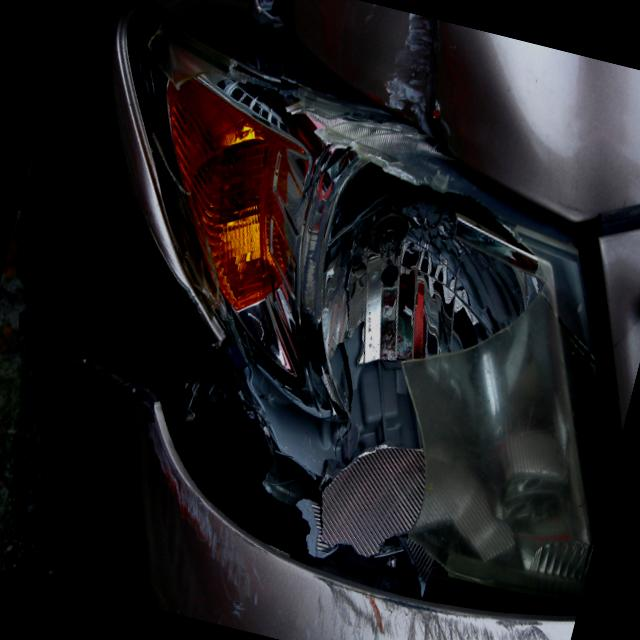Dechirure: (0, 269, 250, 491)
Phare abime: (9, 12, 584, 639)
Rayure: (99, 420, 597, 640), (335, 1, 464, 143)
